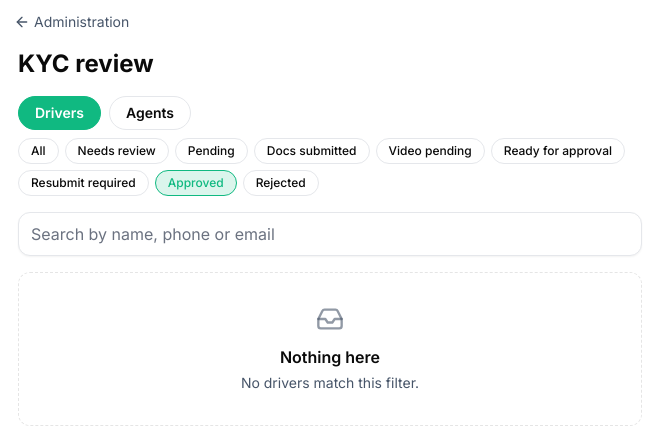
Scenario: KycReviewPage › shows a search-specific empty message when the server returns nothing for a query
Type "zzzzz" into the field named "search kyc queue" at (330, 234), box [18,212,642,256]
Wait 300 ms
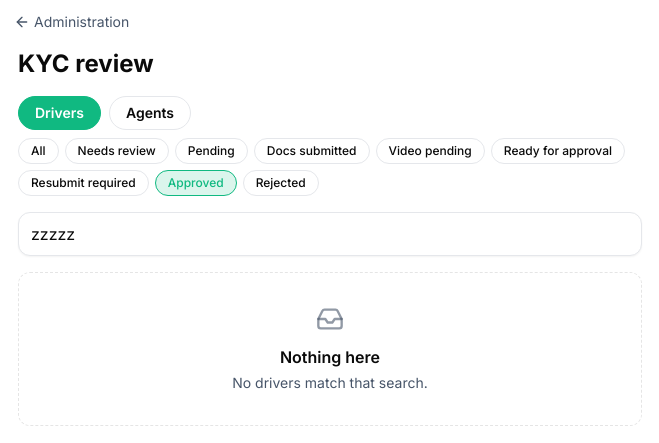
expect the text "No drivers match that search." is shown: met, box [232,373,428,393]
